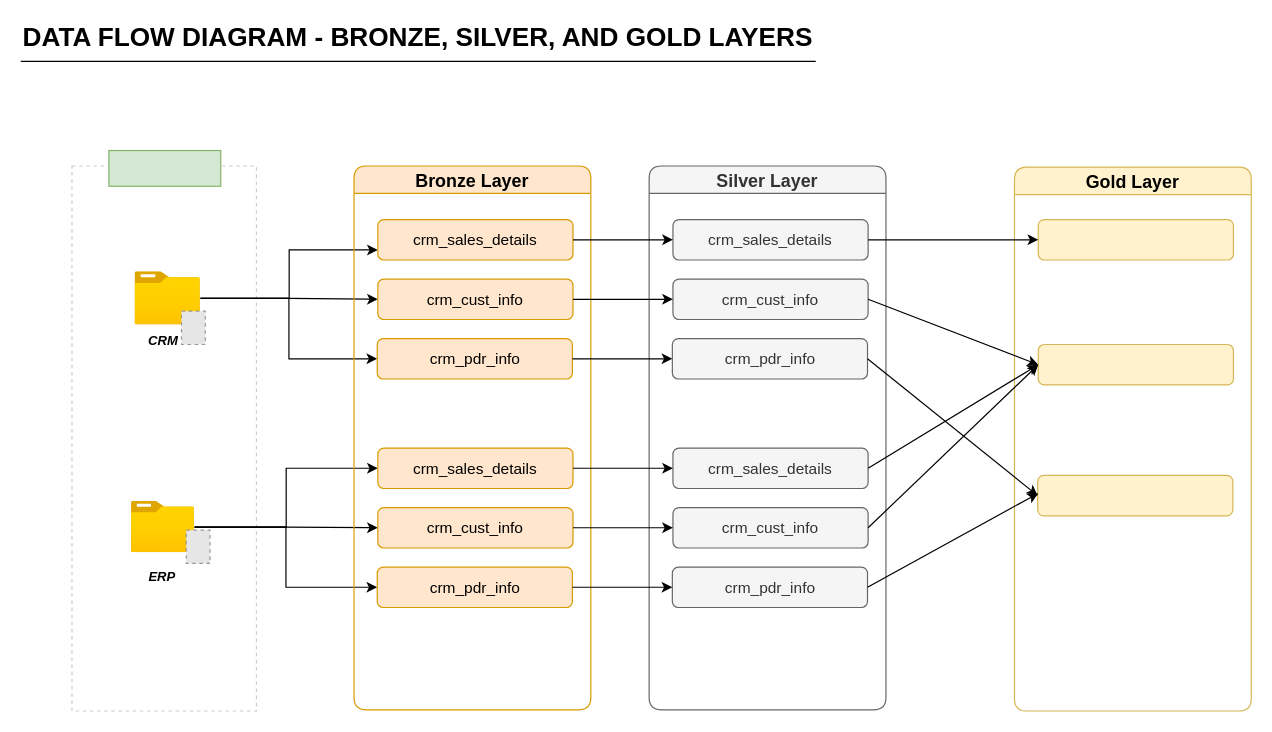
Some shapes in this 1272 by 732 pixel diagram are drawn without their labels. Grey dashed boxes stand in for pictures. The shapes that lost their labels are listed below. From the top down, each one's centre as x and y in pixels, then its label:
At point 164,167: "Sources".
At point 1135,239: "fact_sales".
At point 1135,364: "dim_customers".
At point 1134,495: "dim_products".
